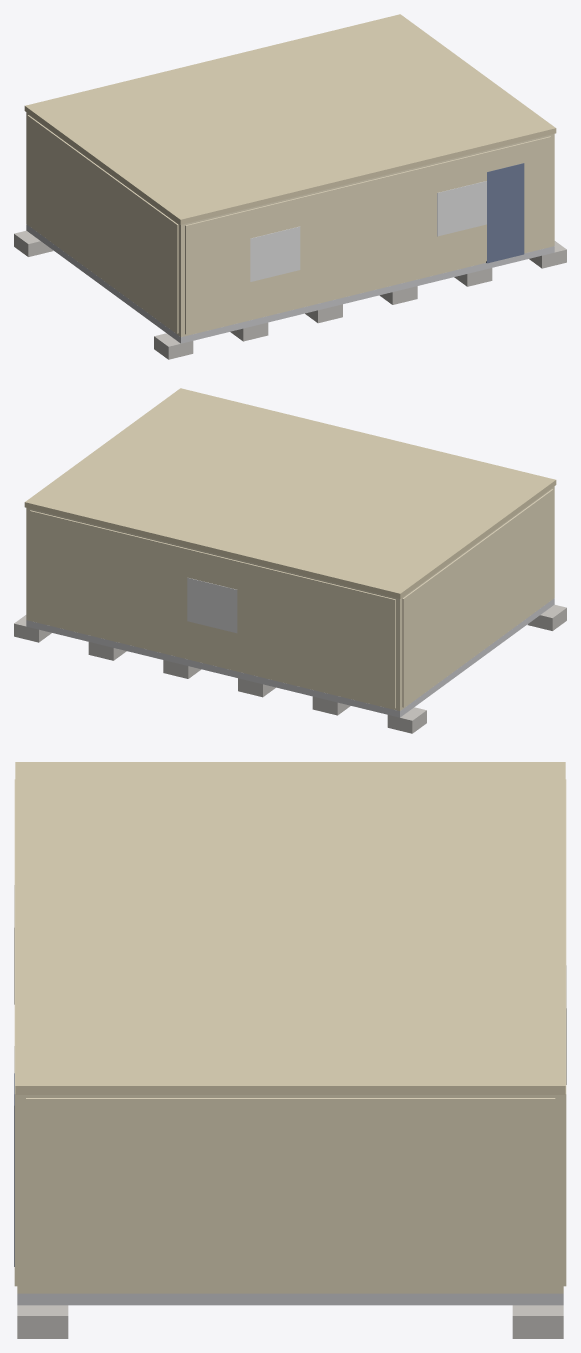
The model's file is Studio-30-Base-MicroGrainYellowSlate-LOD1.glb.
3 views of the same model, one above another, from view 1: azimuth 30°, elevation 25°; view 2: azimuth 150°, elevation 25°; view 3: azimuth 270°, elevation 25° (orthographic). The views are drawn at different scales.
Parts seen in each view (by area): view 1: RoofMain, ExteriorPanelsStandard, WindowsStandard, BaseFrame, FoundationBlocks, EntryDoor, ExteriorShell; view 2: RoofMain, ExteriorPanelsStandard, BaseFrame, FoundationBlocks, ExteriorShell, WindowsStandard; view 3: RoofMain, ExteriorPanelsStandard, BaseFrame, ExteriorShell, FoundationBlocks.
Boxes of the visible parts, left/top/right/bottom form: RoofMain: left=24, top=14, right=556, bottom=224; ExteriorPanelsStandard: left=27, top=115, right=551, bottom=334; WindowsStandard: left=250, top=181, right=486, bottom=281; BaseFrame: left=26, top=224, right=554, bottom=343; FoundationBlocks: left=14, top=230, right=566, bottom=359; EntryDoor: left=486, top=163, right=524, bottom=263; ExteriorShell: left=26, top=112, right=554, bottom=336; RoofMain: left=24, top=388, right=556, bottom=598; ExteriorPanelsStandard: left=30, top=489, right=553, bottom=708; BaseFrame: left=26, top=598, right=554, bottom=717; FoundationBlocks: left=14, top=604, right=566, bottom=733; ExteriorShell: left=26, top=486, right=554, bottom=710; WindowsStandard: left=187, top=577, right=237, bottom=633; RoofMain: left=15, top=762, right=565, bottom=1094; ExteriorPanelsStandard: left=14, top=779, right=566, bottom=1290; BaseFrame: left=17, top=1293, right=563, bottom=1305; ExteriorShell: left=17, top=1095, right=563, bottom=1293; FoundationBlocks: left=17, top=1305, right=563, bottom=1338.
Bounding box in the file's own units: 9.6 × 3.17 × 6.53.
